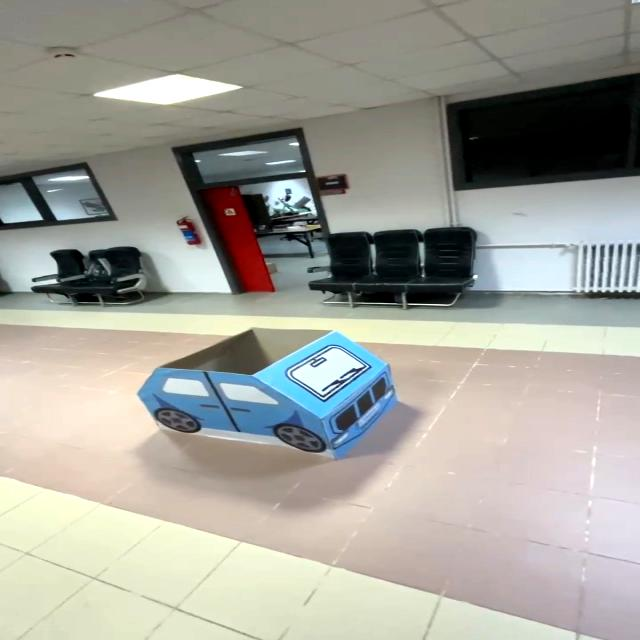blue_car: (94, 316, 425, 475)
